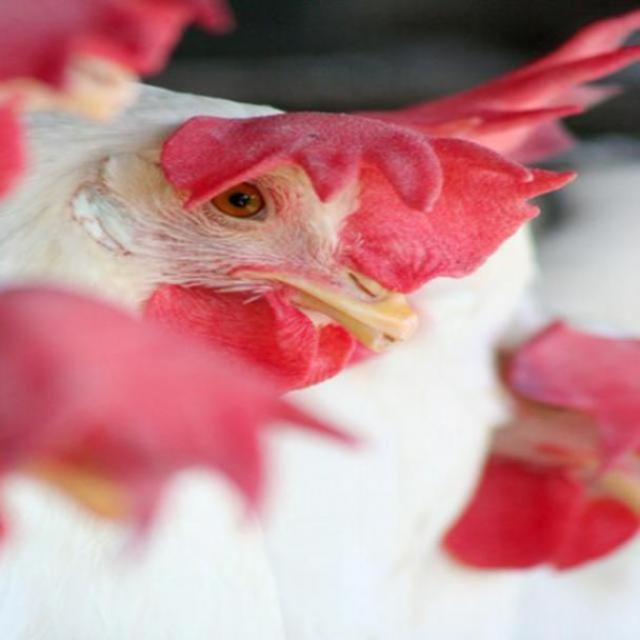Chicken: (0, 68, 566, 583)
